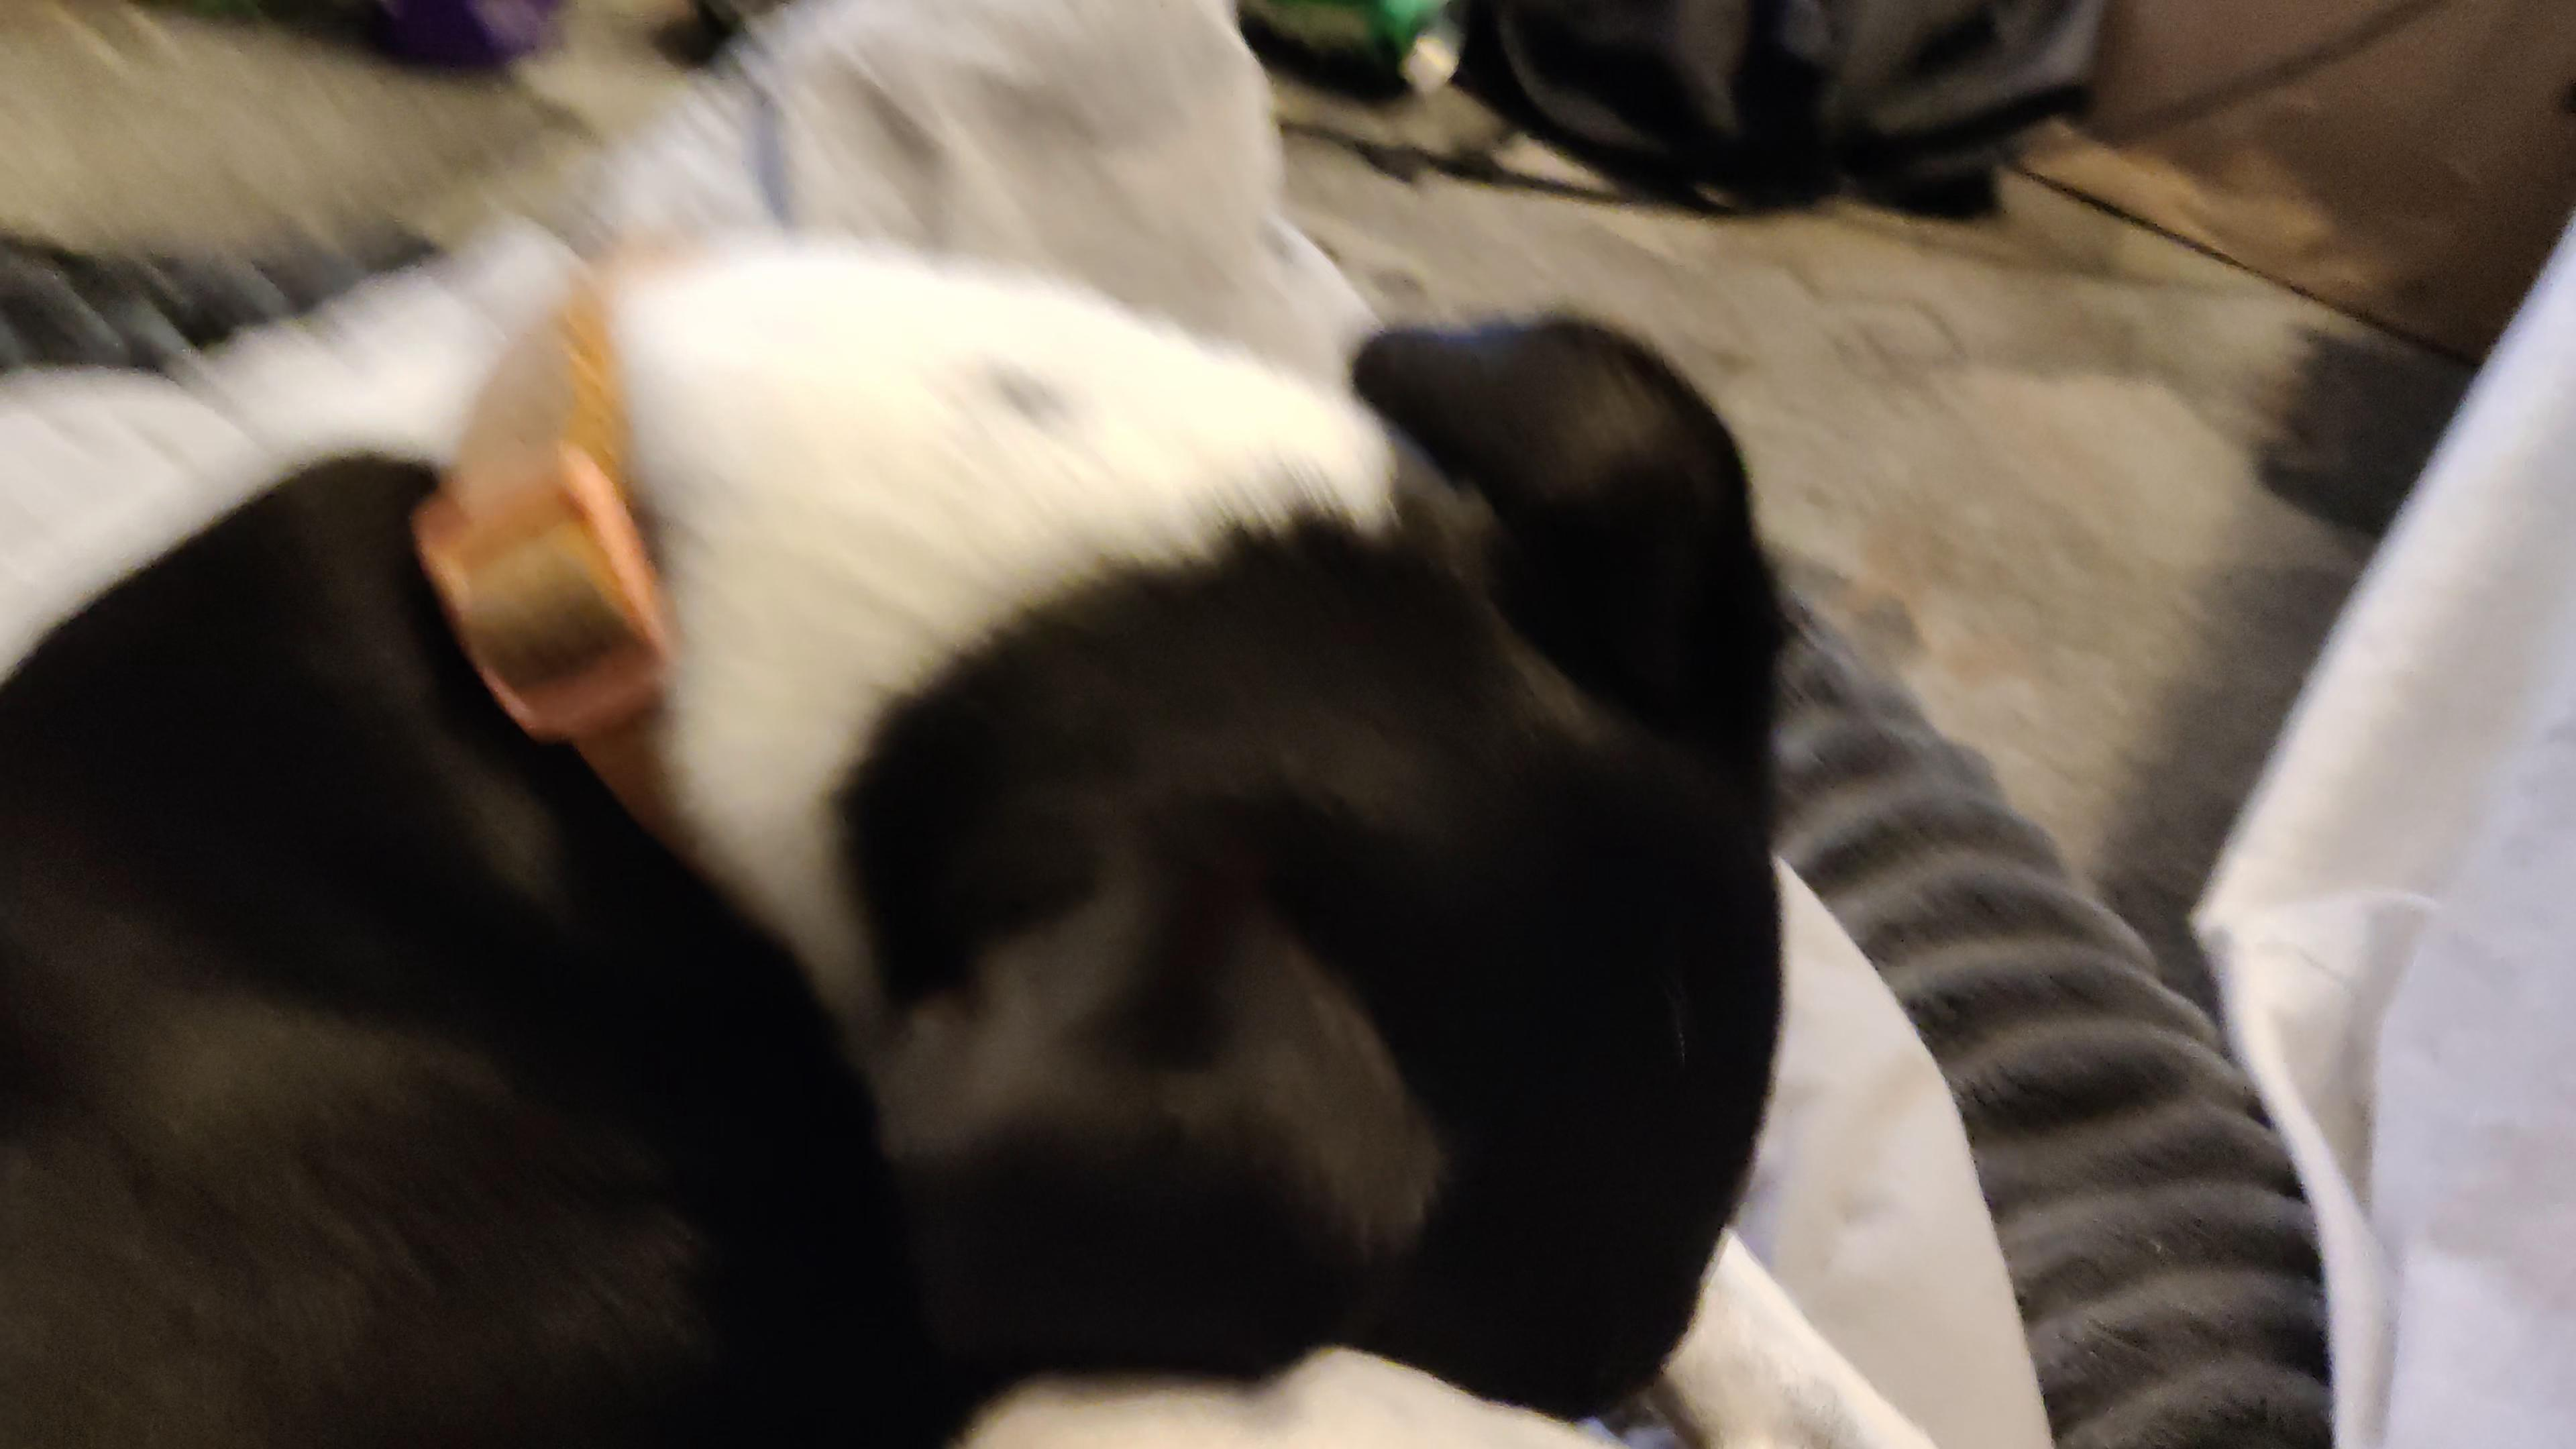Dog: (0, 189, 1951, 1449)
